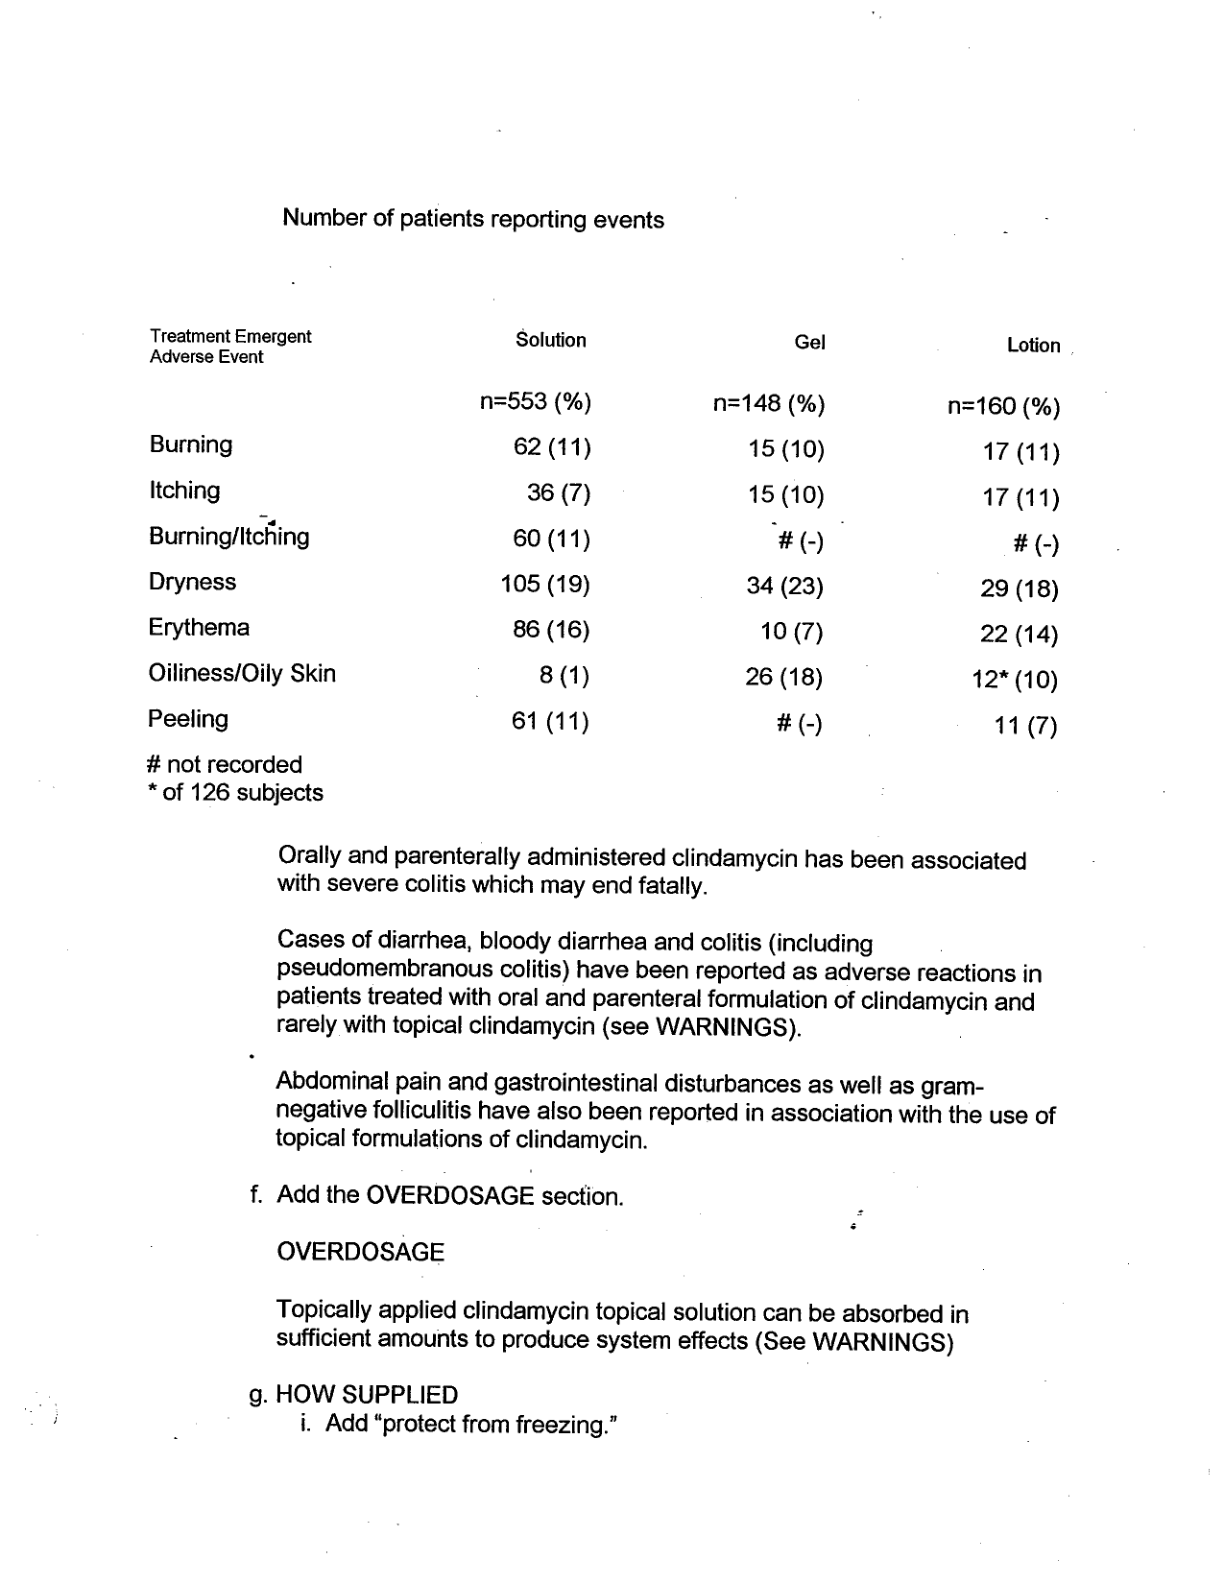nolines: (147, 321, 1067, 744)
